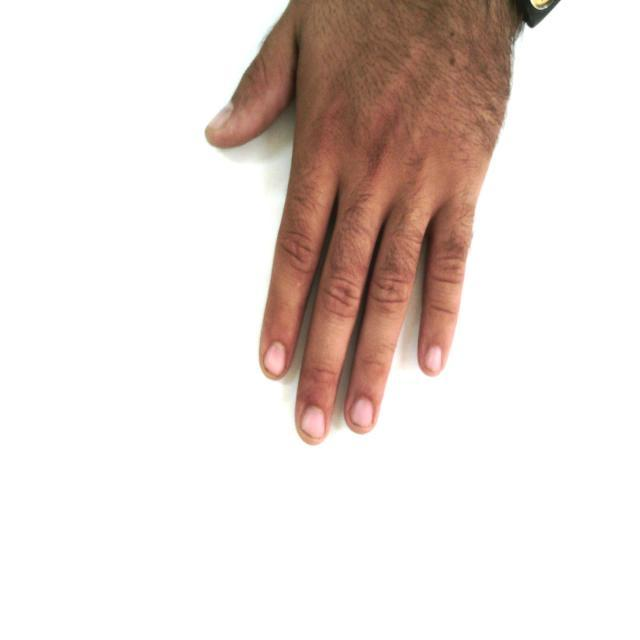Fingernail: (302, 407, 325, 437), (265, 343, 286, 374), (350, 398, 372, 427), (208, 106, 231, 130), (426, 346, 441, 372)
